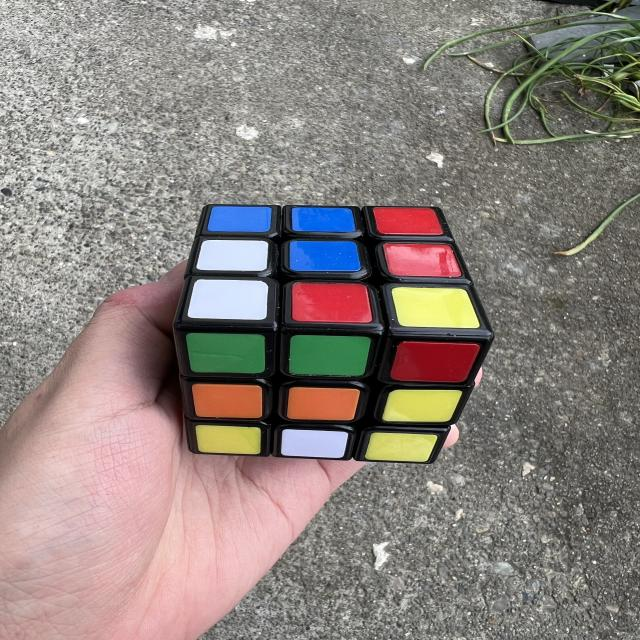blue: (289, 240, 361, 272), (206, 206, 272, 233), (291, 207, 356, 233)
center: (286, 386, 361, 422), (289, 240, 361, 272)
green: (288, 334, 371, 377), (185, 333, 266, 374)
orange: (286, 386, 361, 422), (191, 383, 263, 419)
red: (390, 340, 480, 385), (291, 282, 373, 324), (383, 243, 461, 277), (372, 207, 442, 236)
white: (187, 278, 268, 321), (195, 240, 268, 272), (280, 429, 348, 459)
yellow: (391, 286, 480, 329), (382, 389, 462, 423), (364, 432, 438, 463), (192, 424, 263, 456)
